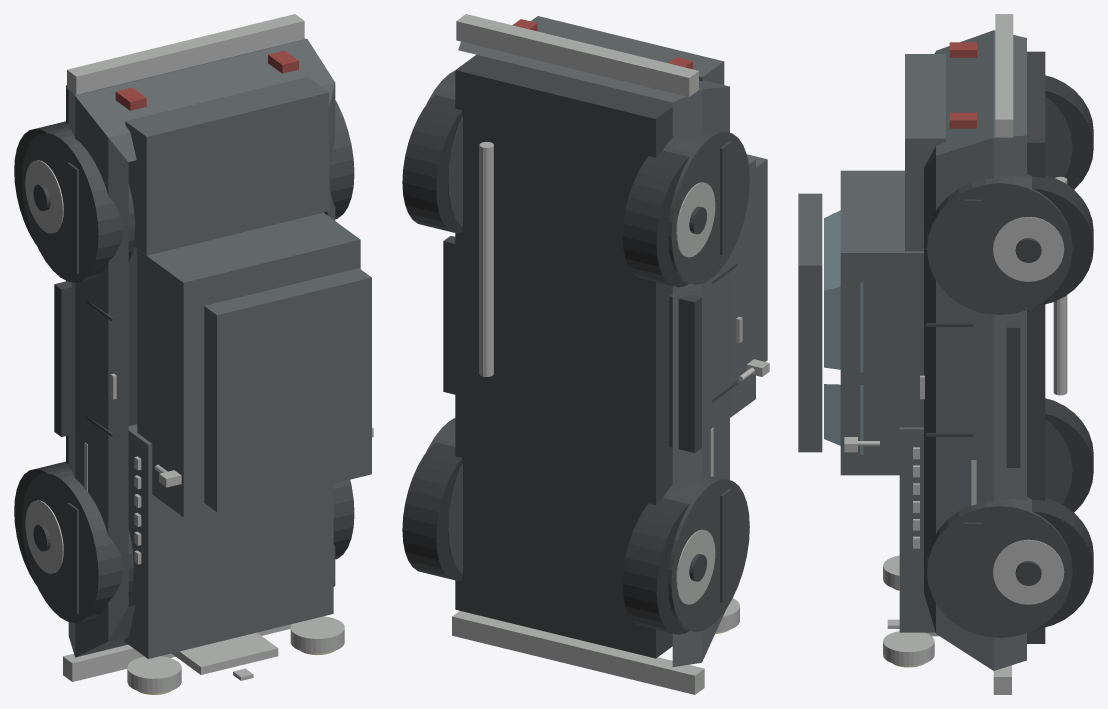
File: nodel.glb
3 views of the same model, side by side, from view 1: azimuth 30°, elevation 25°; view 2: azimuth 150°, elevation 25°; view 3: azimuth 270°, elevation 25° (orthographic). The views are drawn at different scales.
Parts seen in each view (by area): view 1: roof, lower_body, hood, rear_deck, cabin_base, fender_cap_-1_1.15, fender_cap_-1_-1.2, rear_bumper, running_board_-1, front_grille_surround, front_bumper, fender_cap_1_1.15 (+10 smaller); view 2: underframe, lower_body, rear_bumper, front_bumper, fender_cap_-1_1.15, fender_cap_-1_-1.2, tire_-1_1.15, tire_-1_-1.2, tire_1_1.15, tire_1_-1.2, cabin_base, running_board_-1 (+10 smaller); view 3: lower_body, cabin_base, fender_cap_1_-1.2, fender_cap_1_1.15, roof, underframe, rear_deck, hood, wheel_hub_1_1.15, wheel_hub_1_-1.2, tire_1_-1.2, tire_1_1.15 (+18 smaller).
Part boxes in pixels (<box>): roof: <box>204,268,371,511</box>; lower_body: <box>68,38,335,657</box>; hood: <box>124,424,333,658</box>; rear_deck: <box>125,76,329,255</box>; cabin_base: <box>137,212,360,517</box>; fender_cap_-1_1.15: <box>22,127,135,282</box>; fender_cap_-1_-1.2: <box>22,467,133,622</box>; rear_bumper: <box>67,14,304,94</box>; running_board_-1: <box>54,281,72,436</box>; front_grille_surround: <box>171,632,278,674</box>; front_bumper: <box>63,624,291,681</box>; fender_cap_1_1.15: <box>324,100,354,219</box>; underframe: <box>455,54,672,658</box>; lower_body: <box>458,41,729,666</box>; rear_bumper: <box>456,14,698,96</box>; front_bumper: <box>452,611,704,694</box>; fender_cap_-1_1.15: <box>663,128,749,284</box>; fender_cap_-1_-1.2: <box>663,476,749,632</box>; tire_-1_1.15: <box>622,150,689,287</box>; tire_-1_-1.2: <box>622,498,689,634</box>; tire_1_1.15: <box>402,95,462,233</box>; tire_1_-1.2: <box>402,442,462,580</box>; cabin_base: <box>730,157,755,417</box>; running_board_-1: <box>669,294,701,452</box>; lower_body: <box>924,30,1026,670</box>; cabin_base: <box>840,170,923,475</box>; fender_cap_1_-1.2: <box>927,497,1072,637</box>; fender_cap_1_1.15: <box>927,174,1072,314</box>; roof: <box>798,193,822,452</box>; underframe: <box>1027,51,1045,643</box>; rear_deck: <box>905,54,945,251</box>; hood: <box>899,427,935,632</box>; wheel_hub_1_1.15: <box>993,217,1064,281</box>; wheel_hub_1_-1.2: <box>993,539,1064,604</box>; tire_1_-1.2: <box>1032,498,1093,628</box>; tire_1_1.15: <box>1032,175,1093,305</box>.
Size of the model in its own units: 1.92 by 4.17 by 1.95.
